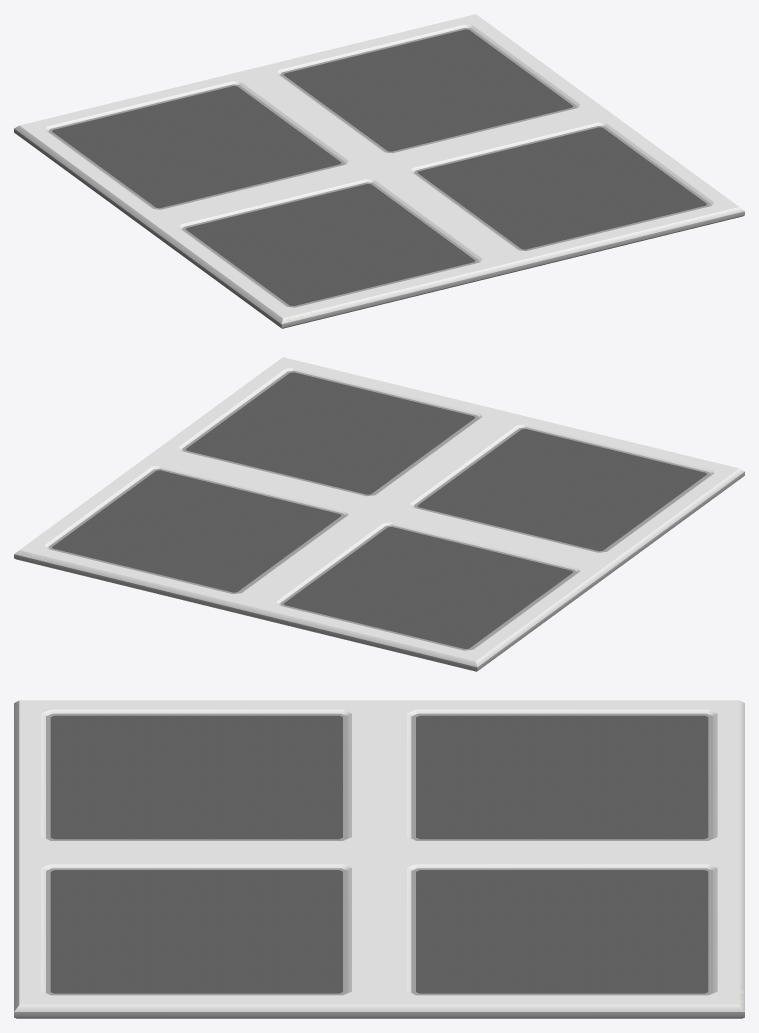
Rendered from cpplatform-2x2-solid.glb.
3 views of the same model, one above another, from view 1: azimuth 30°, elevation 25°; view 2: azimuth 150°, elevation 25°; view 3: azimuth 270°, elevation 25° (orthographic). The views are drawn at different scales.
Visible parts, largest first — view 1: Platform-2x2-solid; view 2: Platform-2x2-solid; view 3: Platform-2x2-solid.
Boxes of the visible parts, x1,y1,x2,y2 form: Platform-2x2-solid: (14, 14, 744, 328); Platform-2x2-solid: (14, 357, 744, 671); Platform-2x2-solid: (14, 700, 744, 1018).
Size of what is drawn, in the model's own units: 8 by 0.15 by 8.
Materials: 5 (5 with a texture image).
